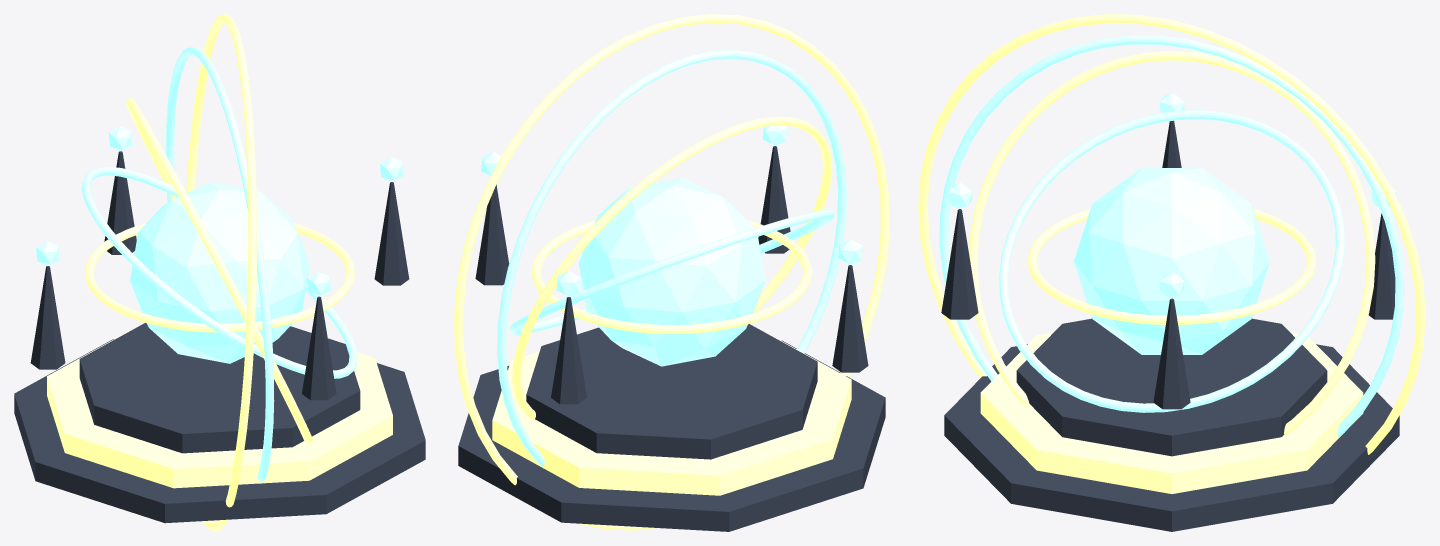
The model's file is gpu-blender-v10.glb.
3 views of the same model, side by side, from view 1: azimuth 30°, elevation 25°; view 2: azimuth 150°, elevation 25°; view 3: azimuth 270°, elevation 25° (orthographic). The views are drawn at different scales.
Visible parts, largest first — view 1: Cylinder.002, SovereignCore_etsy-connector, Cylinder, Cylinder.001, Torus.004, Torus.003, Torus.001, Torus, Torus.002, Cone.003, Cone, Cone.002 (+1 smaller); view 2: Cylinder.002, SovereignCore_etsy-connector, Cylinder, Cylinder.001, Torus.004, Torus.003, Torus.002, Torus, Torus.001, Cone.001, Cone.002, Cone (+1 smaller); view 3: SovereignCore_etsy-connector, Cylinder.002, Cylinder, Cylinder.001, Torus.004, Torus.001, Torus.003, Torus.002, Torus, Cone, Cone.003, Cone.001 (+1 smaller).
Boxes of the visible parts, <box> form: Cylinder.002: <box>79,323,360,453</box>; SovereignCore_etsy-connector: <box>130,182,309,363</box>; Cylinder: <box>14,339,425,523</box>; Cylinder.001: <box>47,330,392,488</box>; Torus.004: <box>186,14,257,531</box>; Torus.003: <box>165,47,274,483</box>; Torus.001: <box>82,166,357,378</box>; Torus: <box>85,223,354,332</box>; Torus.002: <box>126,98,312,442</box>; Cone.003: <box>302,296,336,400</box>; Cone: <box>374,182,409,285</box>; Cone.002: <box>30,266,65,369</box>; Cylinder.002: <box>526,324,817,459</box>; SovereignCore_etsy-connector: <box>578,178,765,366</box>; Cylinder: <box>458,340,885,531</box>; Cylinder.001: <box>492,331,851,495</box>; Torus.004: <box>454,14,889,530</box>; Torus.003: <box>497,49,846,466</box>; Torus.002: <box>512,116,831,419</box>; Torus: <box>531,220,812,333</box>; Torus.001: <box>510,209,833,334</box>; Cone.001: <box>551,297,586,404</box>; Cone.002: <box>832,265,868,372</box>; Cone: <box>475,184,509,285</box>; SovereignCore_etsy-connector: <box>1073,168,1270,354</box>; Cylinder.002: <box>1016,318,1327,456</box>; Cylinder: <box>944,344,1399,531</box>; Cylinder.001: <box>980,332,1363,493</box>; Torus.004: <box>918,14,1425,454</box>; Torus.001: <box>999,110,1344,412</box>; Torus.003: <box>939,35,1404,437</box>; Torus.002: <box>969,51,1375,435</box>; Torus: <box>1027,209,1316,324</box>; Cone: <box>1153,298,1190,409</box>; Cone.003: <box>941,209,978,319</box>; Cone.001: <box>1368,213,1395,319</box>.
Bounding box in the file's own units: 4.41 × 5.33 × 4.9.
